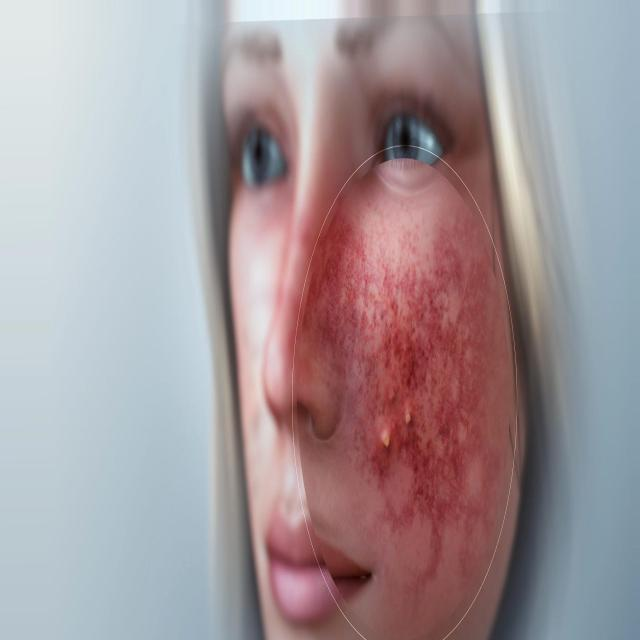Rosacea: (342, 219, 487, 571), (300, 213, 378, 400)
